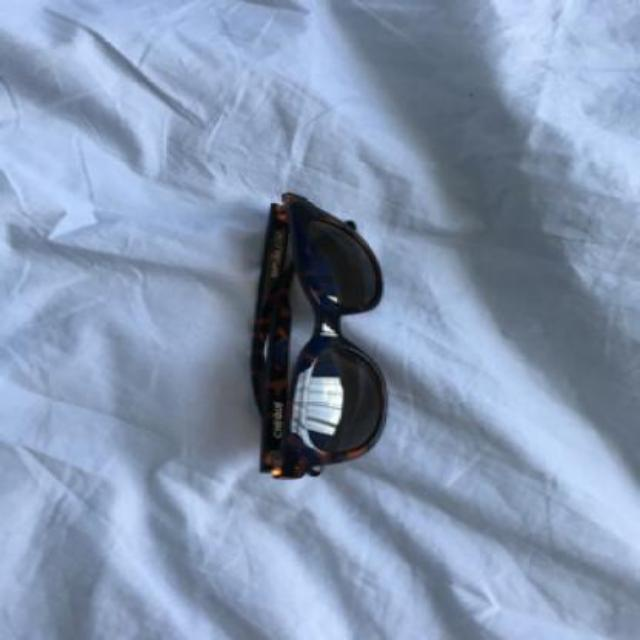sunglasses: (248, 190, 386, 486)
